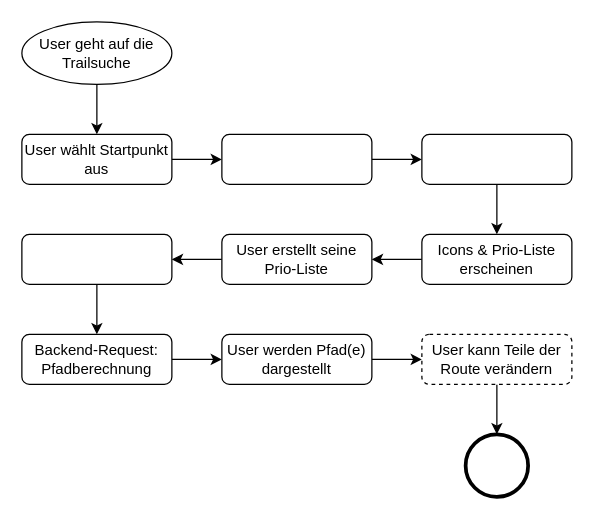
Image size: 594x520. Some labels were removed from this diagram. The shapes that lost their labels are listed below. From the top down, each one's centre as x and y in pixels, then its label:
[296,158]: Radius wird eingegeben
[496,158]: Backend-Request: Sights im Radius
[96,258]: Start der Suche
